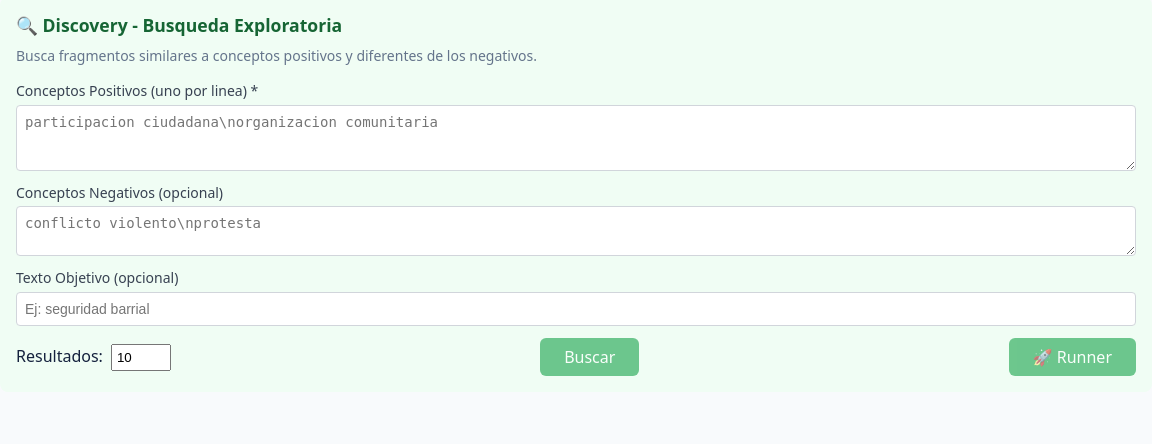
Test: DiscoveryPanel › handles search error gracefully
Type "test" into the text box labelled "Conceptos Positivos (uno por linea) *".
click(576, 138); type("test")  # box [16,105,1136,171]
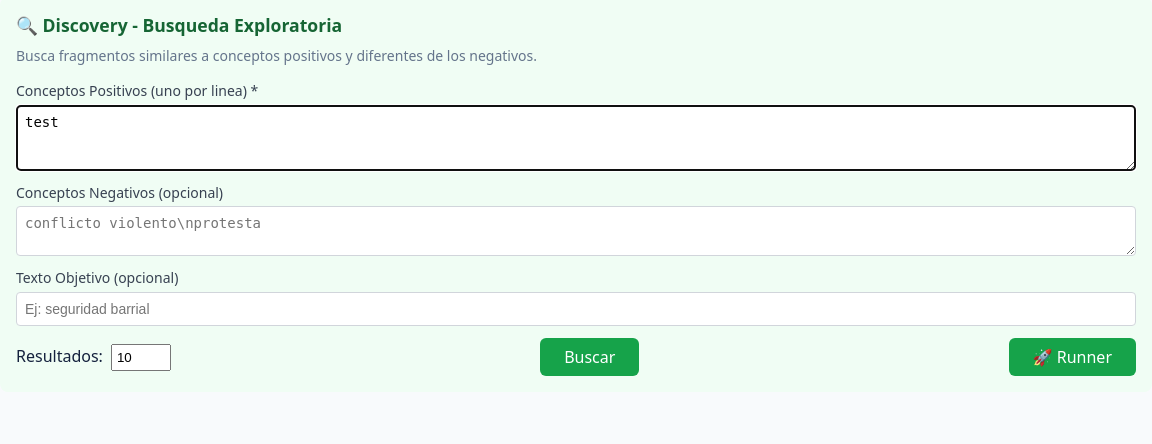
Click the button "Buscar".
click(590, 357)  # box [540,338,639,376]
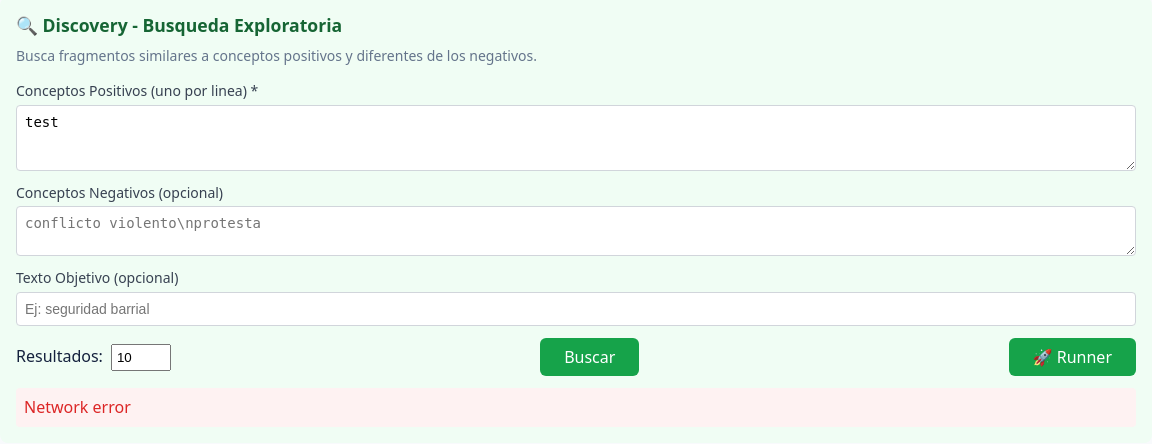
expect the text "Network error" is shown: met, box [16,388,1136,427]
